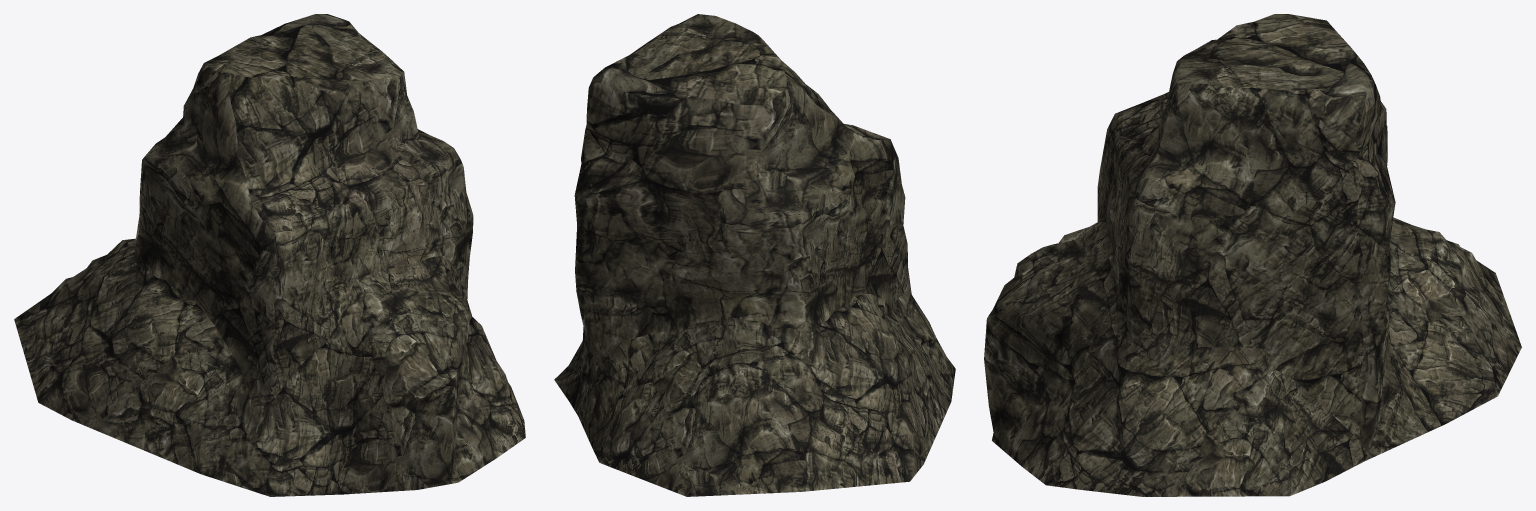
File: Cliff_03_01_N.fbx
3 renders of one model, left to right at view 1: azimuth 30°, elevation 25°; view 2: azimuth 150°, elevation 25°; view 3: azimuth 270°, elevation 25°, orthographic. The views are drawn at different scales.
Parts seen in each view (by area): view 1: Cliff_03_01; view 2: Cliff_03_01; view 3: Cliff_03_01.
Boxes of the visible parts, x1,y1,x2,y2 form: Cliff_03_01: [14, 14, 525, 496]; Cliff_03_01: [554, 14, 955, 496]; Cliff_03_01: [984, 14, 1521, 496].
Size of what is drawn, in the model's own units: 1950 by 1741 by 2221.
1 material, 1 textured.
